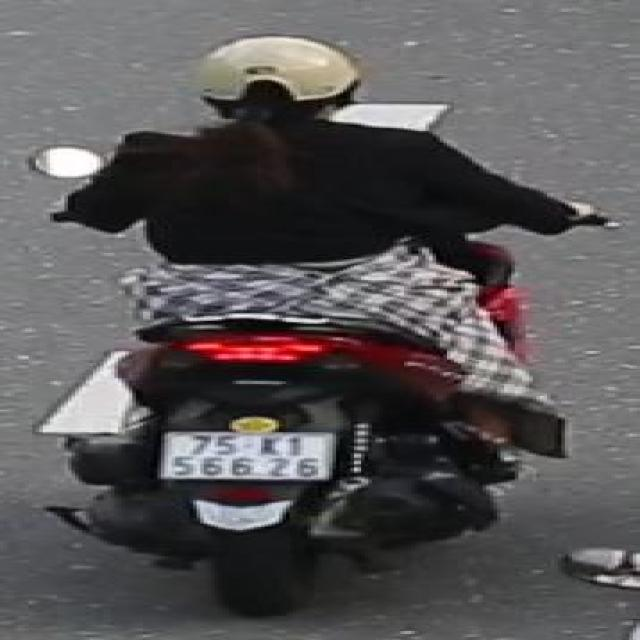LP: (150, 423, 347, 485)
helmet: (179, 29, 379, 132)
